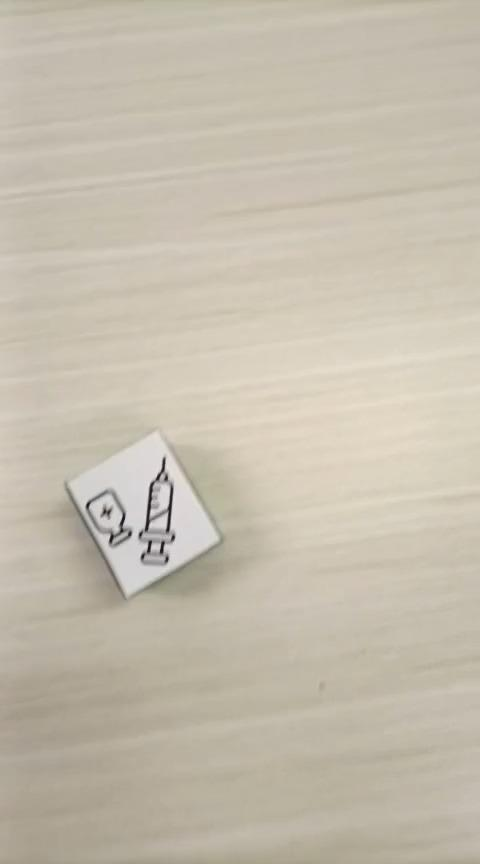antiseptic cream: (64, 428, 222, 600)
